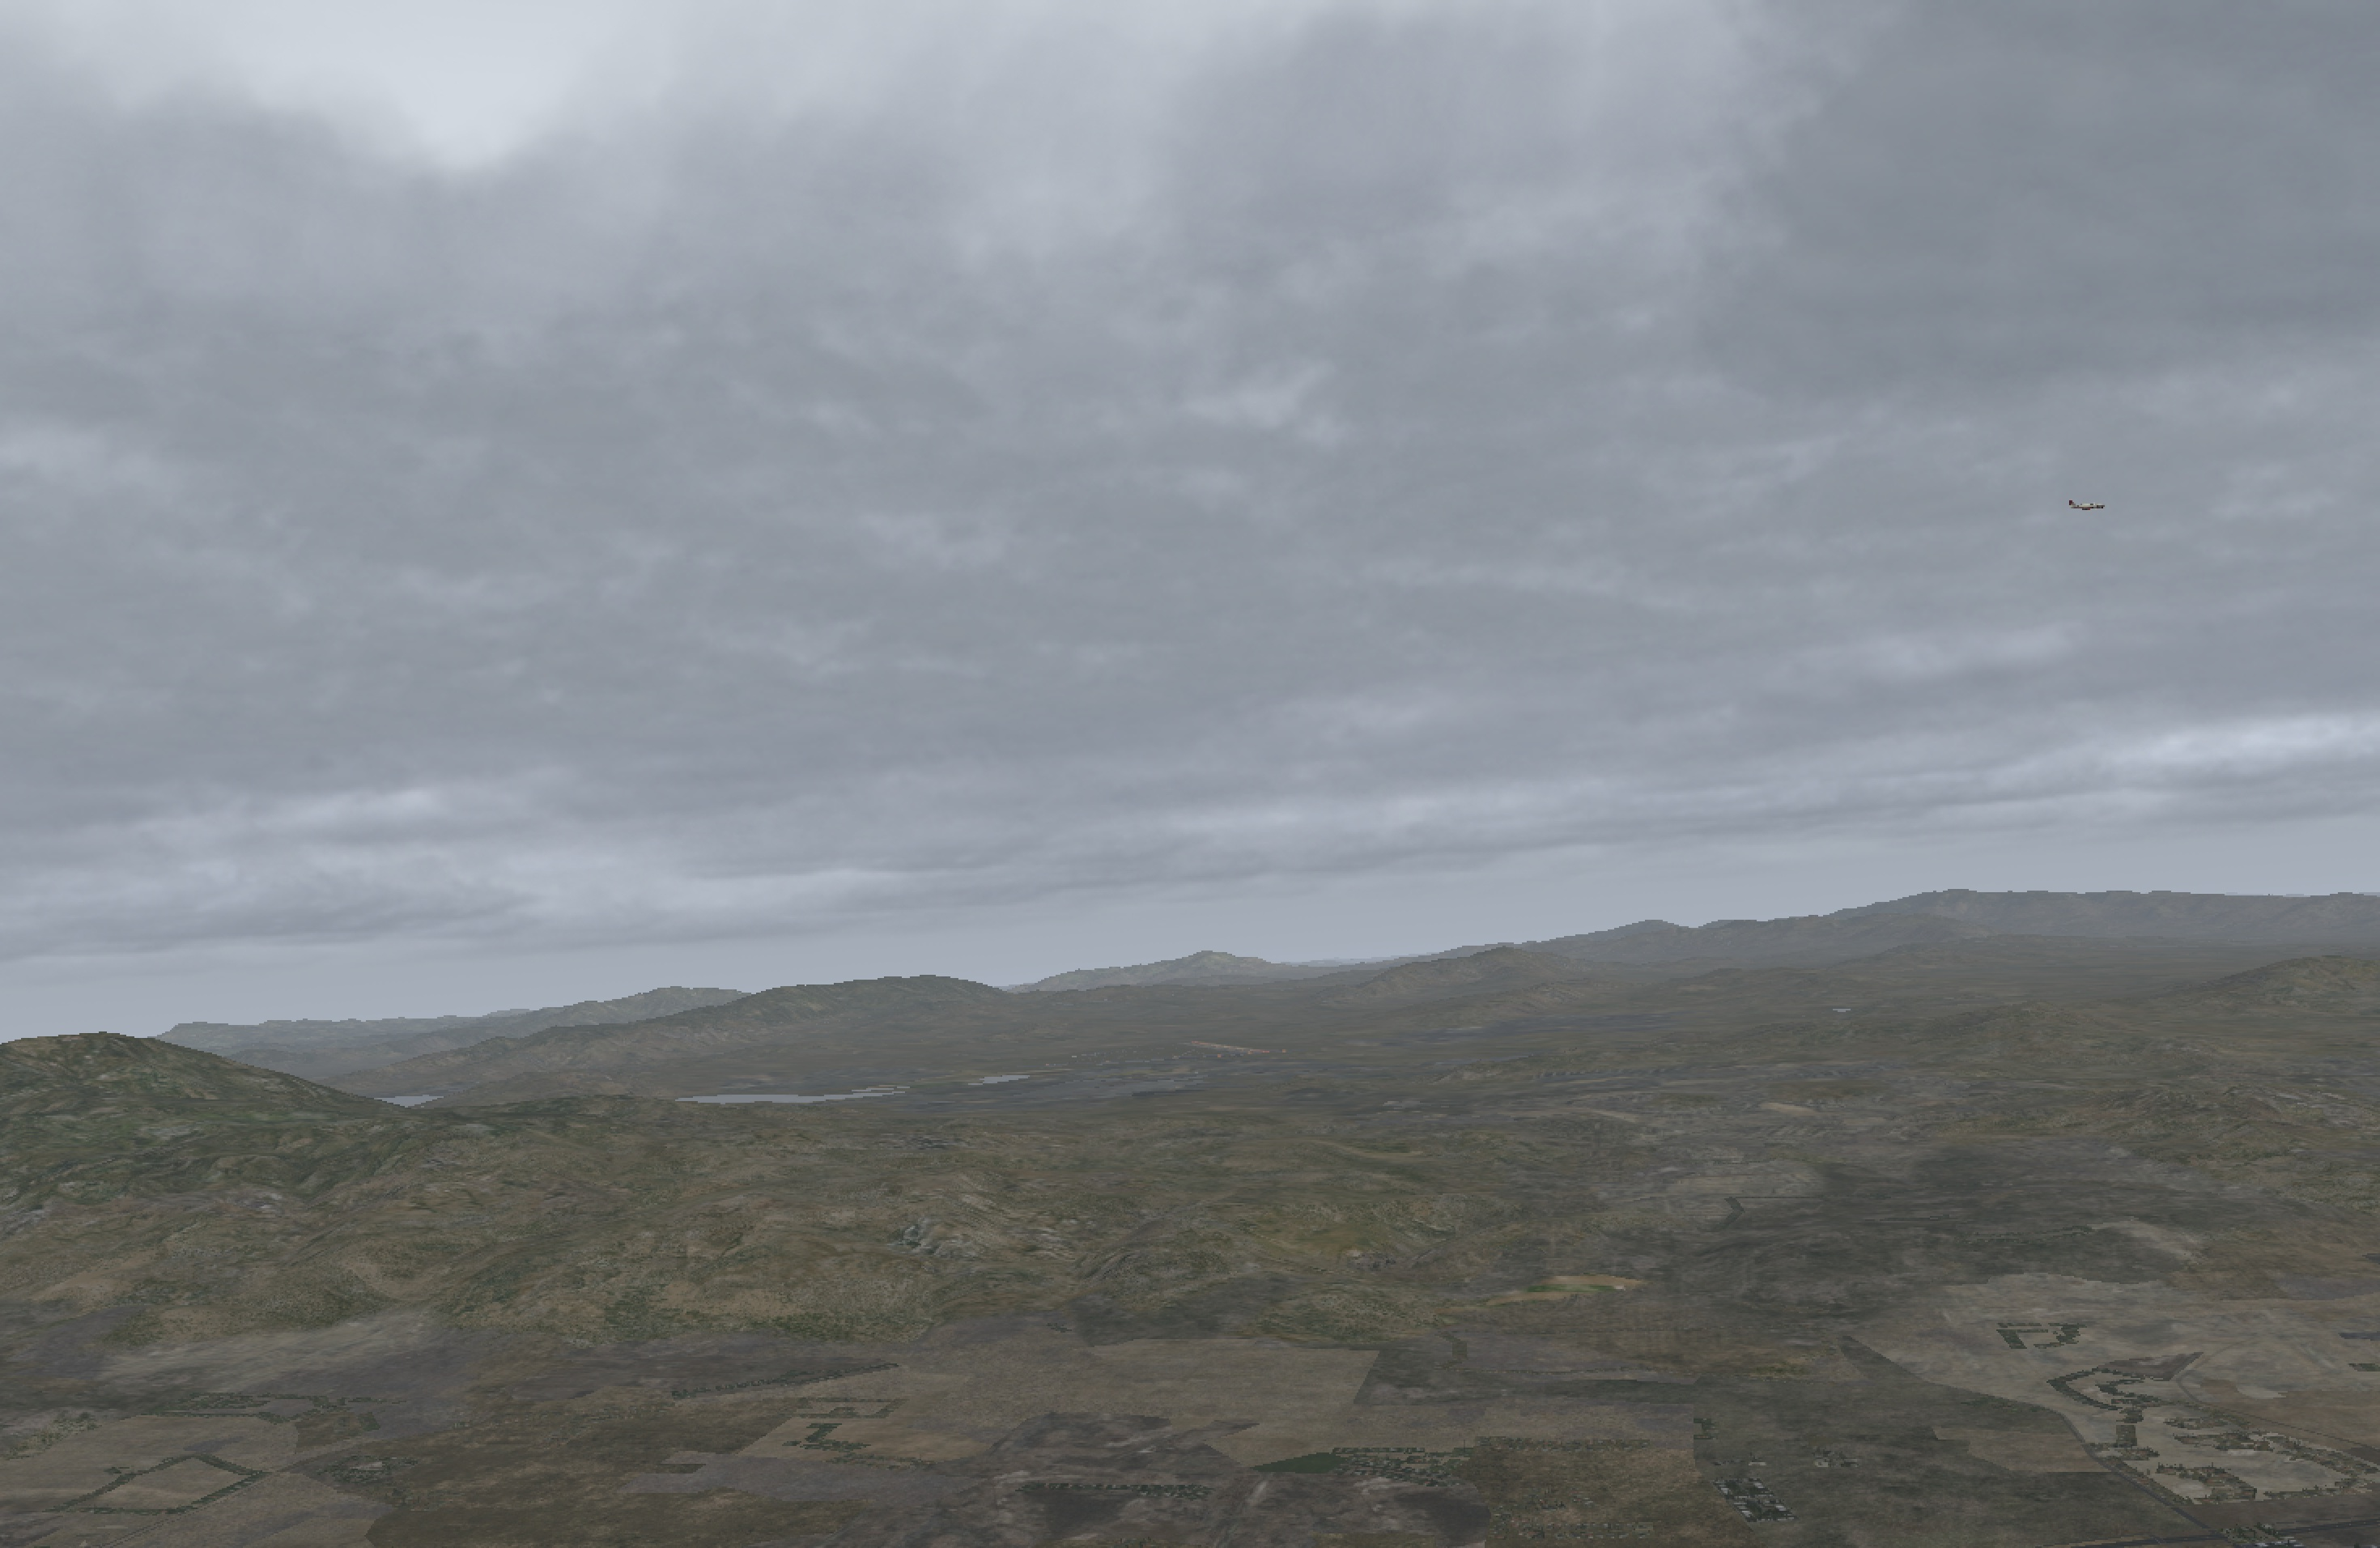aircraft: (2069, 500, 2116, 517)
